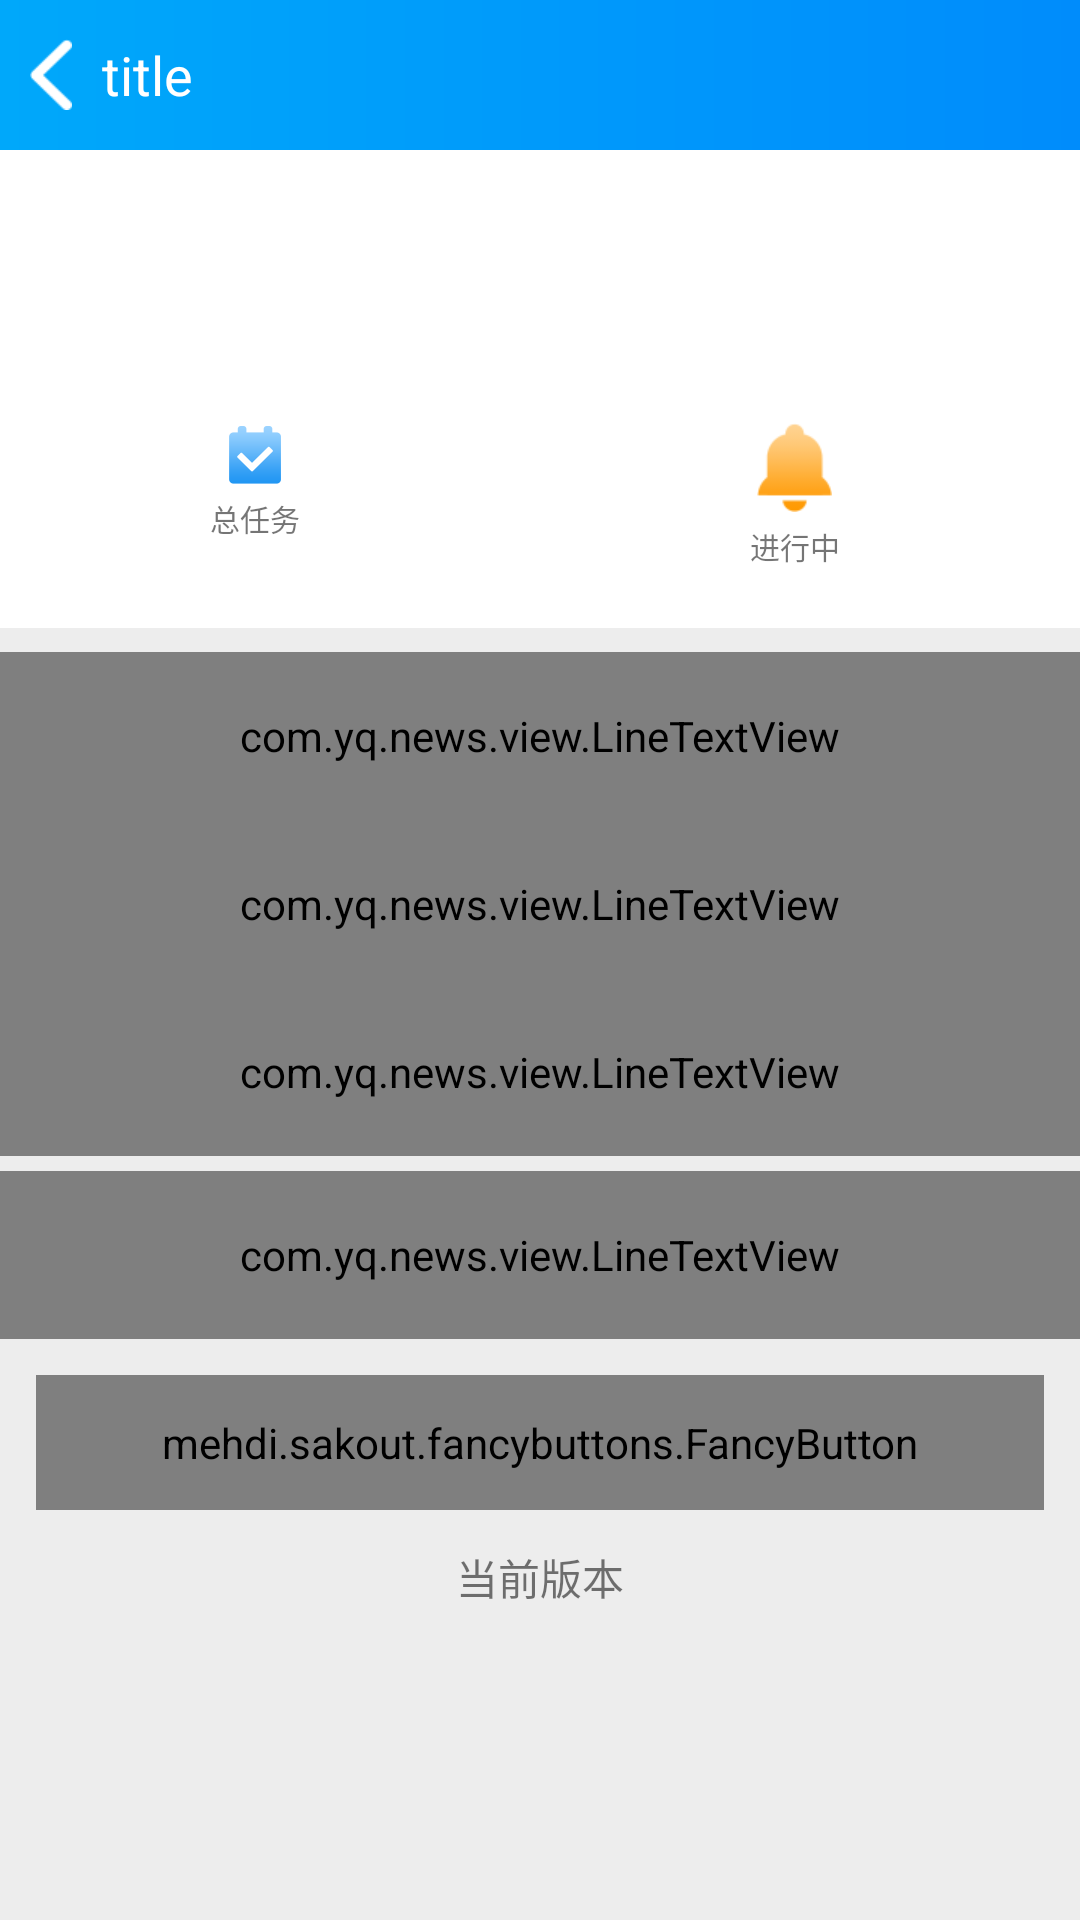

Point at icon controls on the screen. Image size 1080 × 1920, points as [x,y].
back: [51,75]
